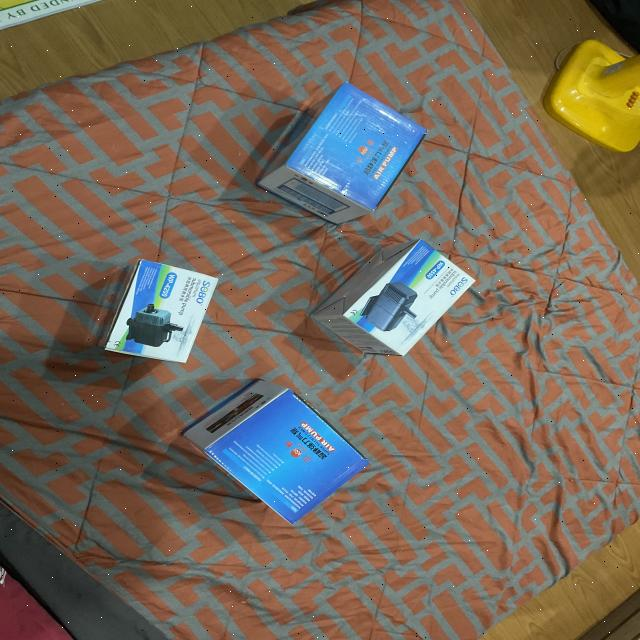SOBO_WP_4200: (307, 232, 486, 362), (90, 245, 224, 372)
YAMANO_LPP_20: (174, 365, 384, 534), (252, 76, 440, 226)
